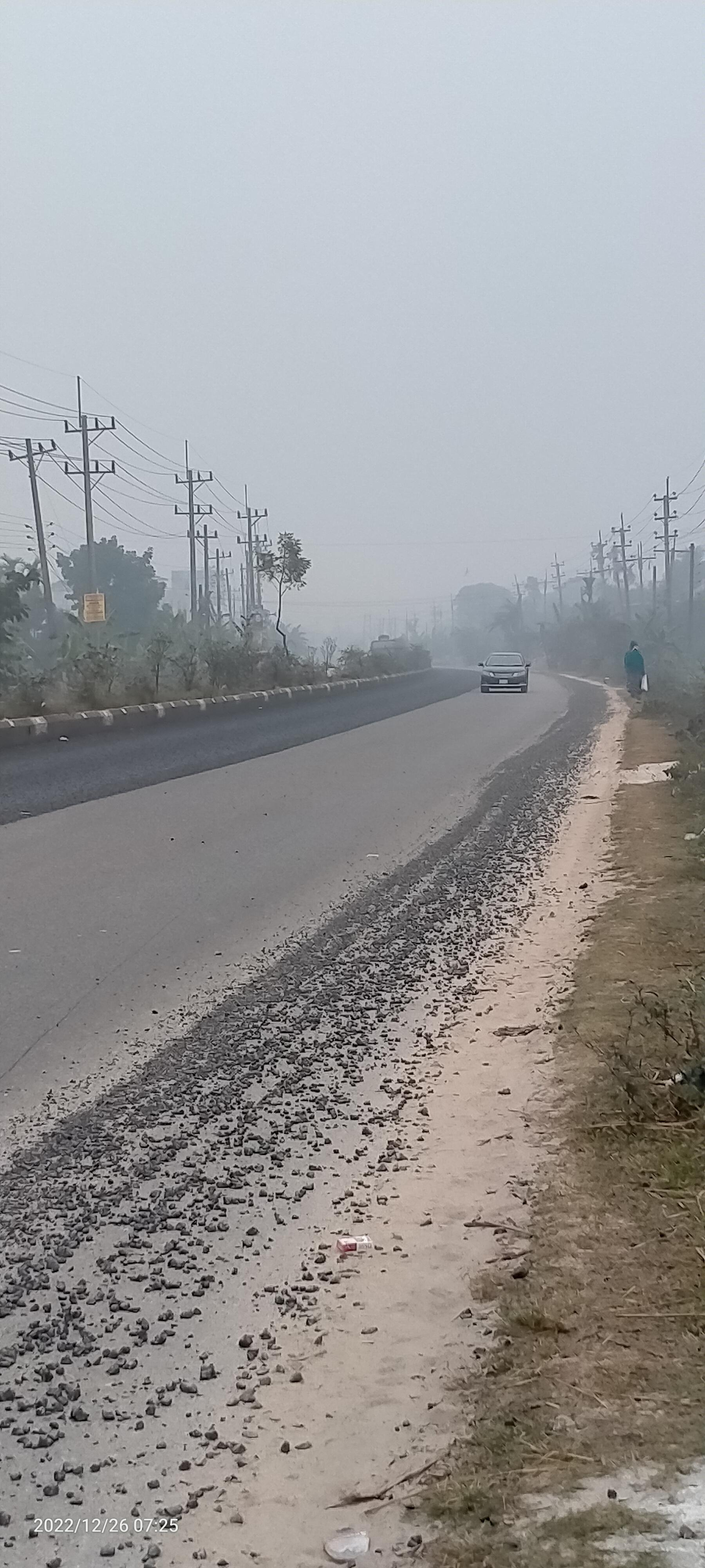Car: (462, 629, 539, 706)
